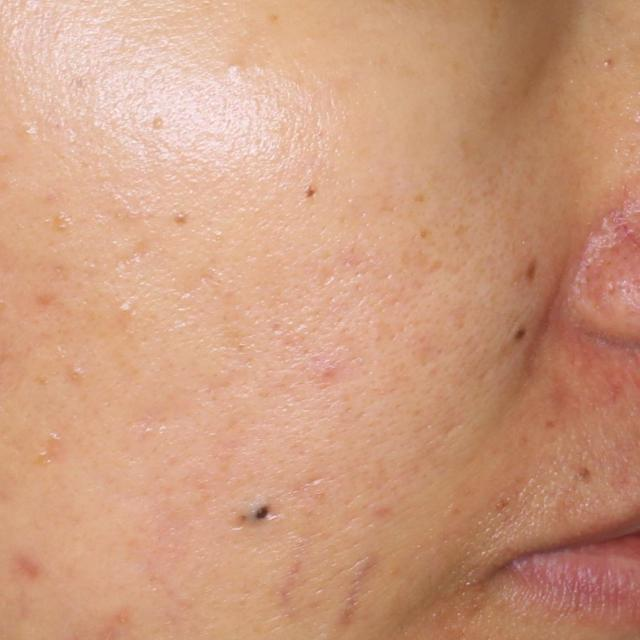blackhead: (287, 178, 327, 208), (504, 322, 535, 356), (249, 497, 281, 527)
